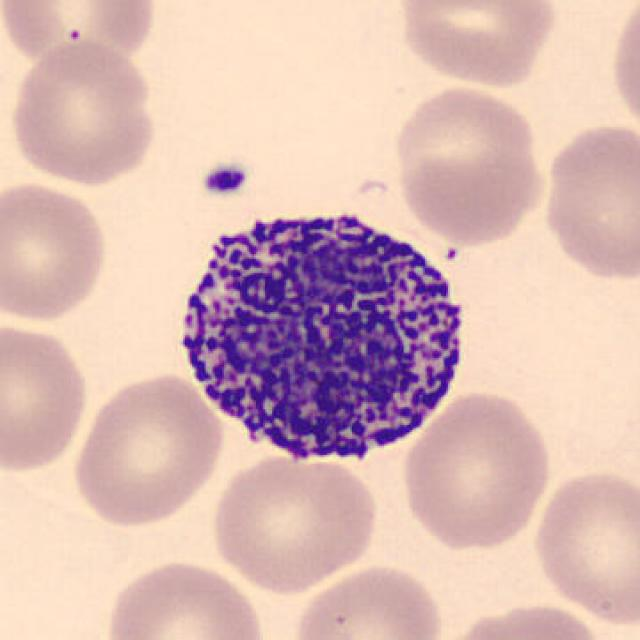Basophil: (160, 190, 484, 480)
Platelets: (198, 159, 252, 201)
RBC: (390, 81, 550, 245), (396, 388, 554, 553), (68, 368, 228, 530), (206, 450, 382, 594), (5, 37, 160, 190), (528, 462, 638, 629), (539, 118, 638, 286), (0, 176, 112, 324), (393, 0, 562, 90), (100, 555, 272, 640), (0, 317, 92, 475), (290, 560, 450, 640), (0, 0, 162, 69), (436, 599, 612, 640), (606, 0, 640, 138)
